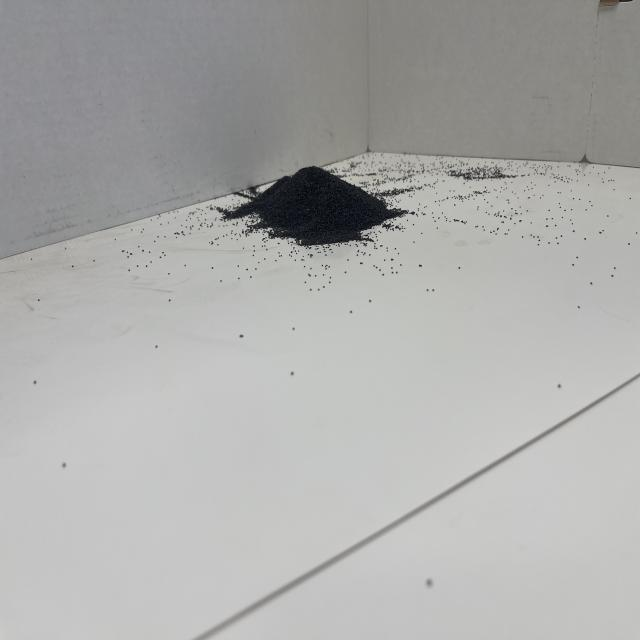Poppy Seeds: (215, 148, 420, 271)
